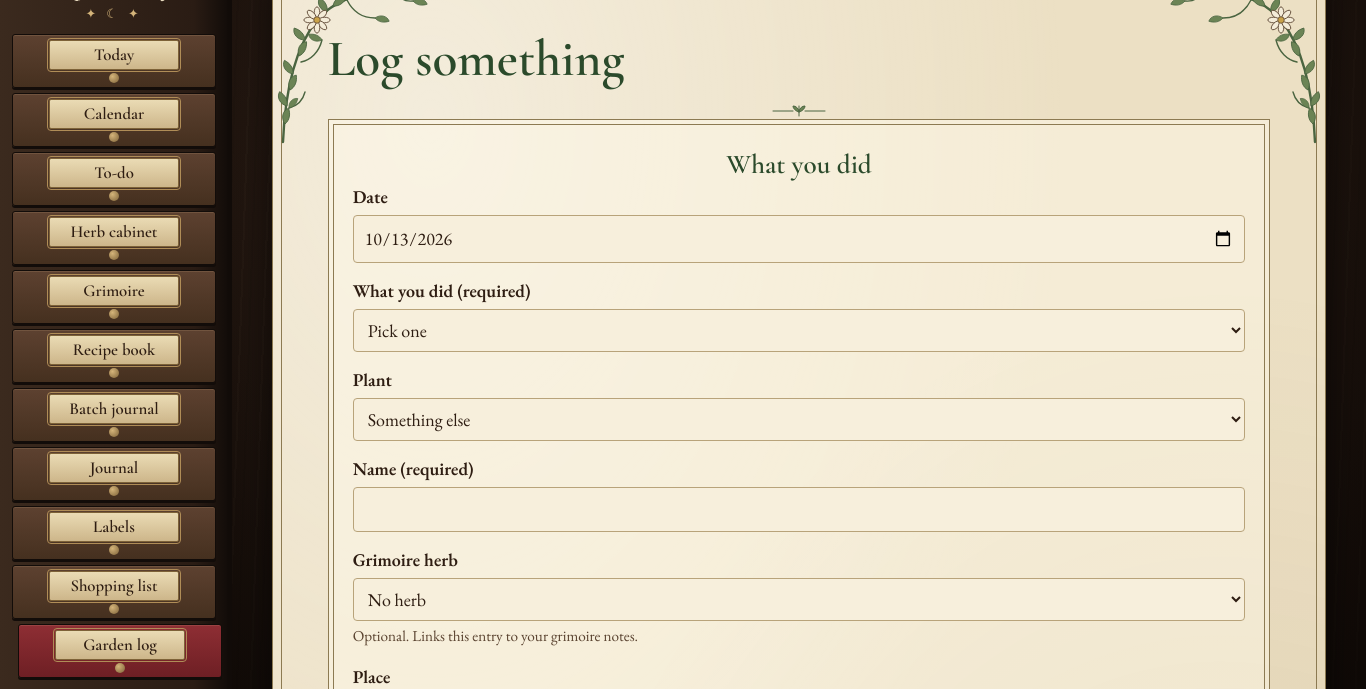
Test: shows server errors under the fields, including plant_name and plant_id
The image size is (1366, 689).
Select "Observed" in the dropdown labelled "What you did (required)". click: (799, 330)
box: [353, 309, 1245, 352]
(page scrolled)
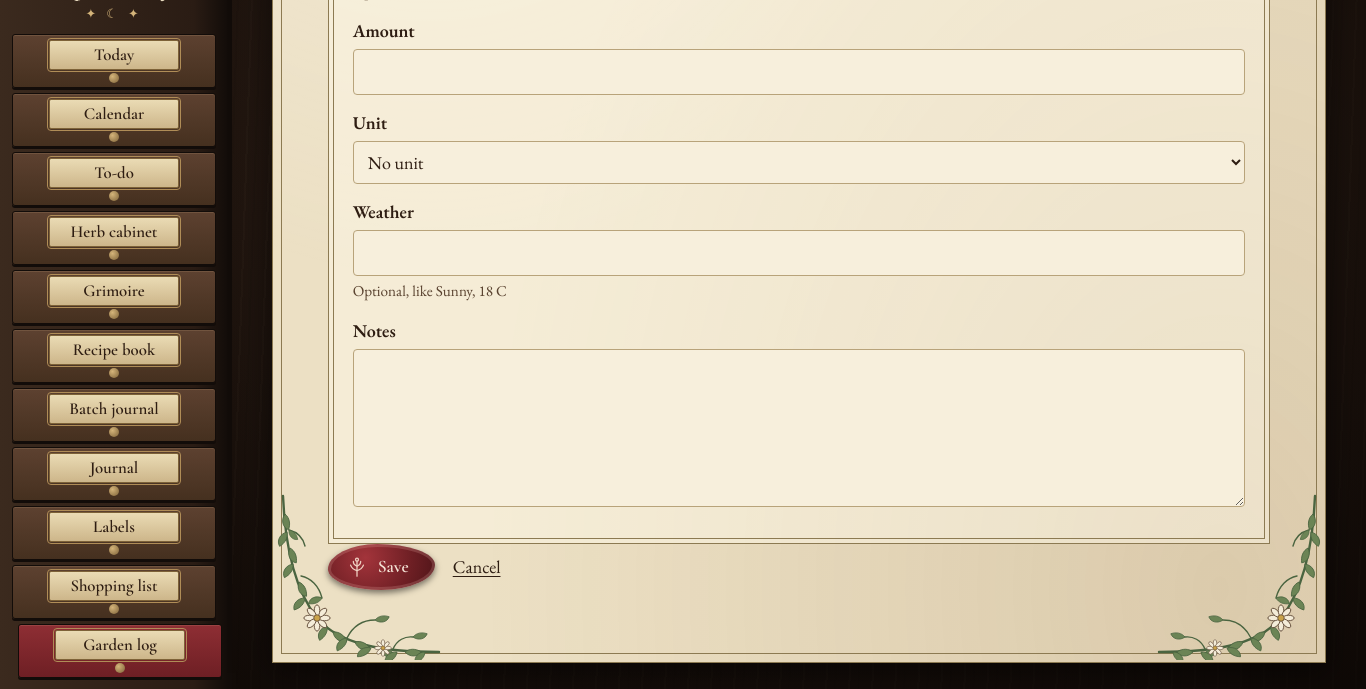
Click the button "Save". click: (381, 566)
box: [328, 544, 435, 590]
(page scrolled)
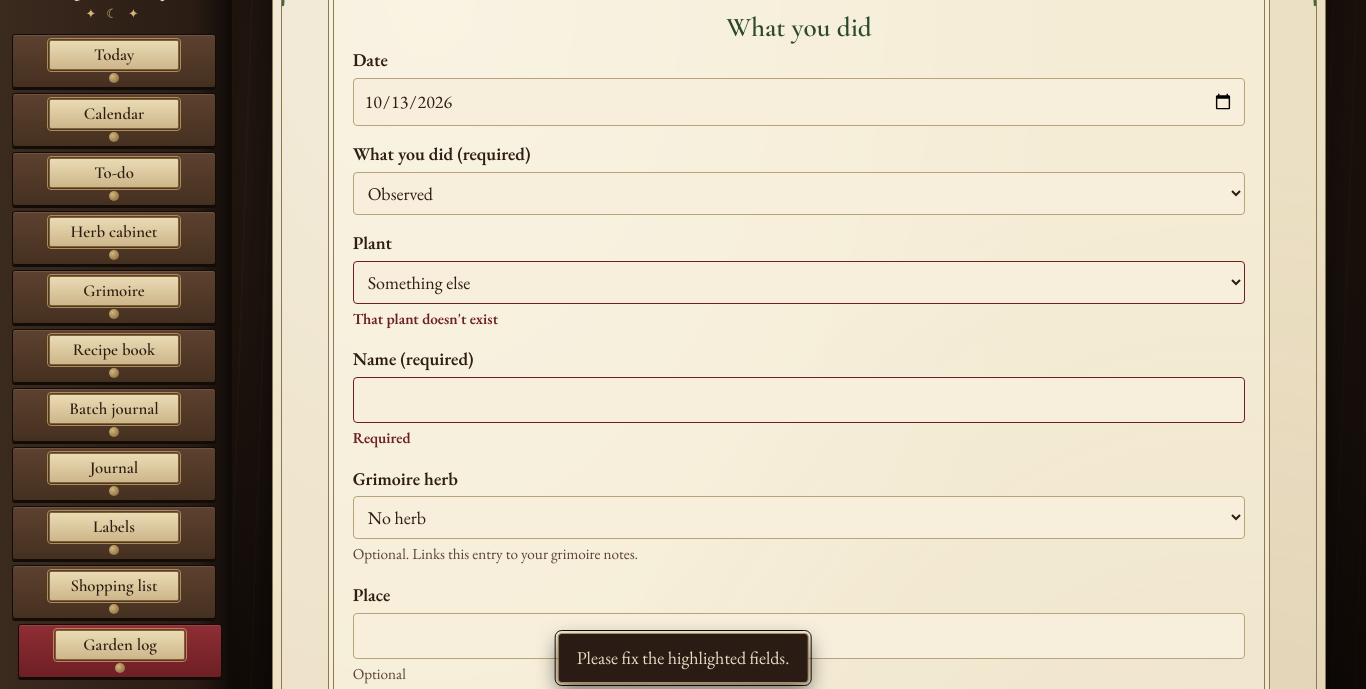
Expected: the text "Required" is shown, [353, 428, 411, 448]
Expected: the text "That plant doesn't exist" is shown, [353, 309, 498, 329]
